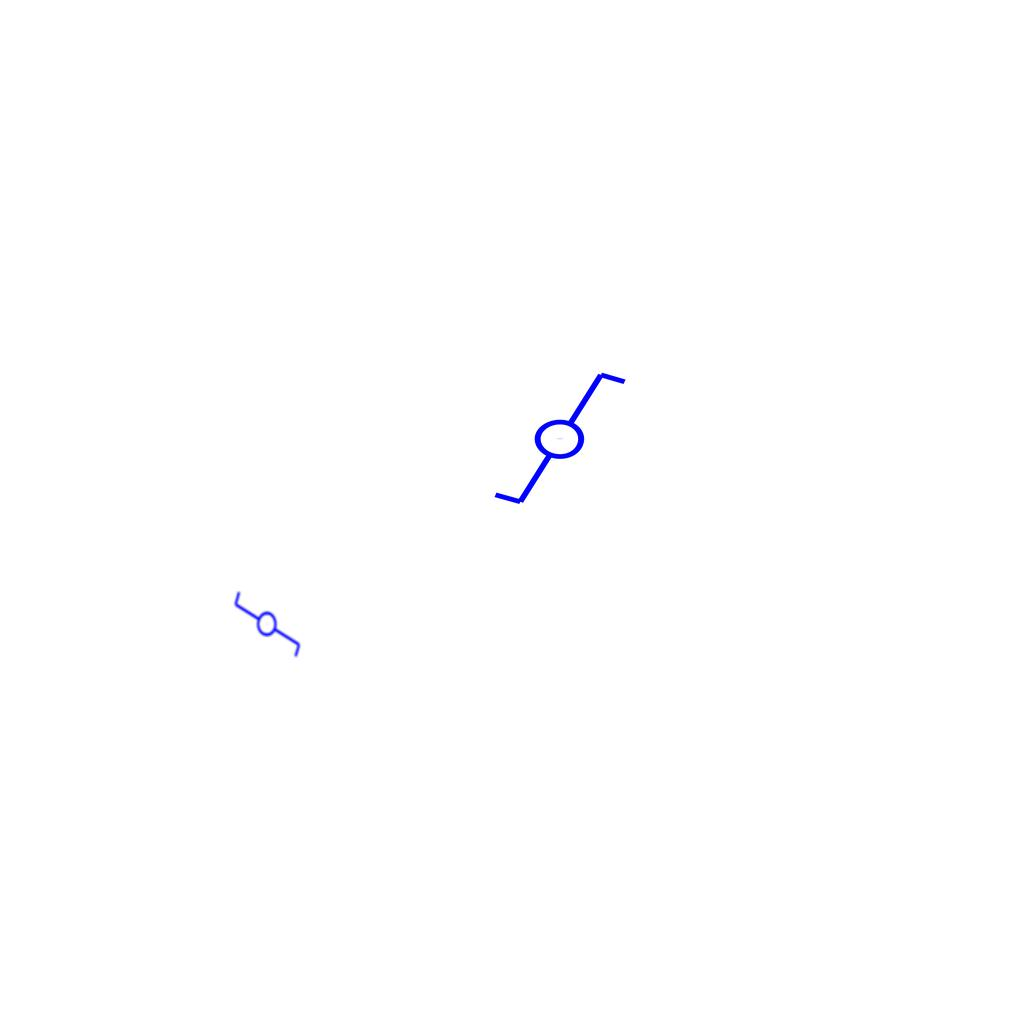Wechselschalter: (473, 365, 630, 509), (232, 581, 304, 659)
